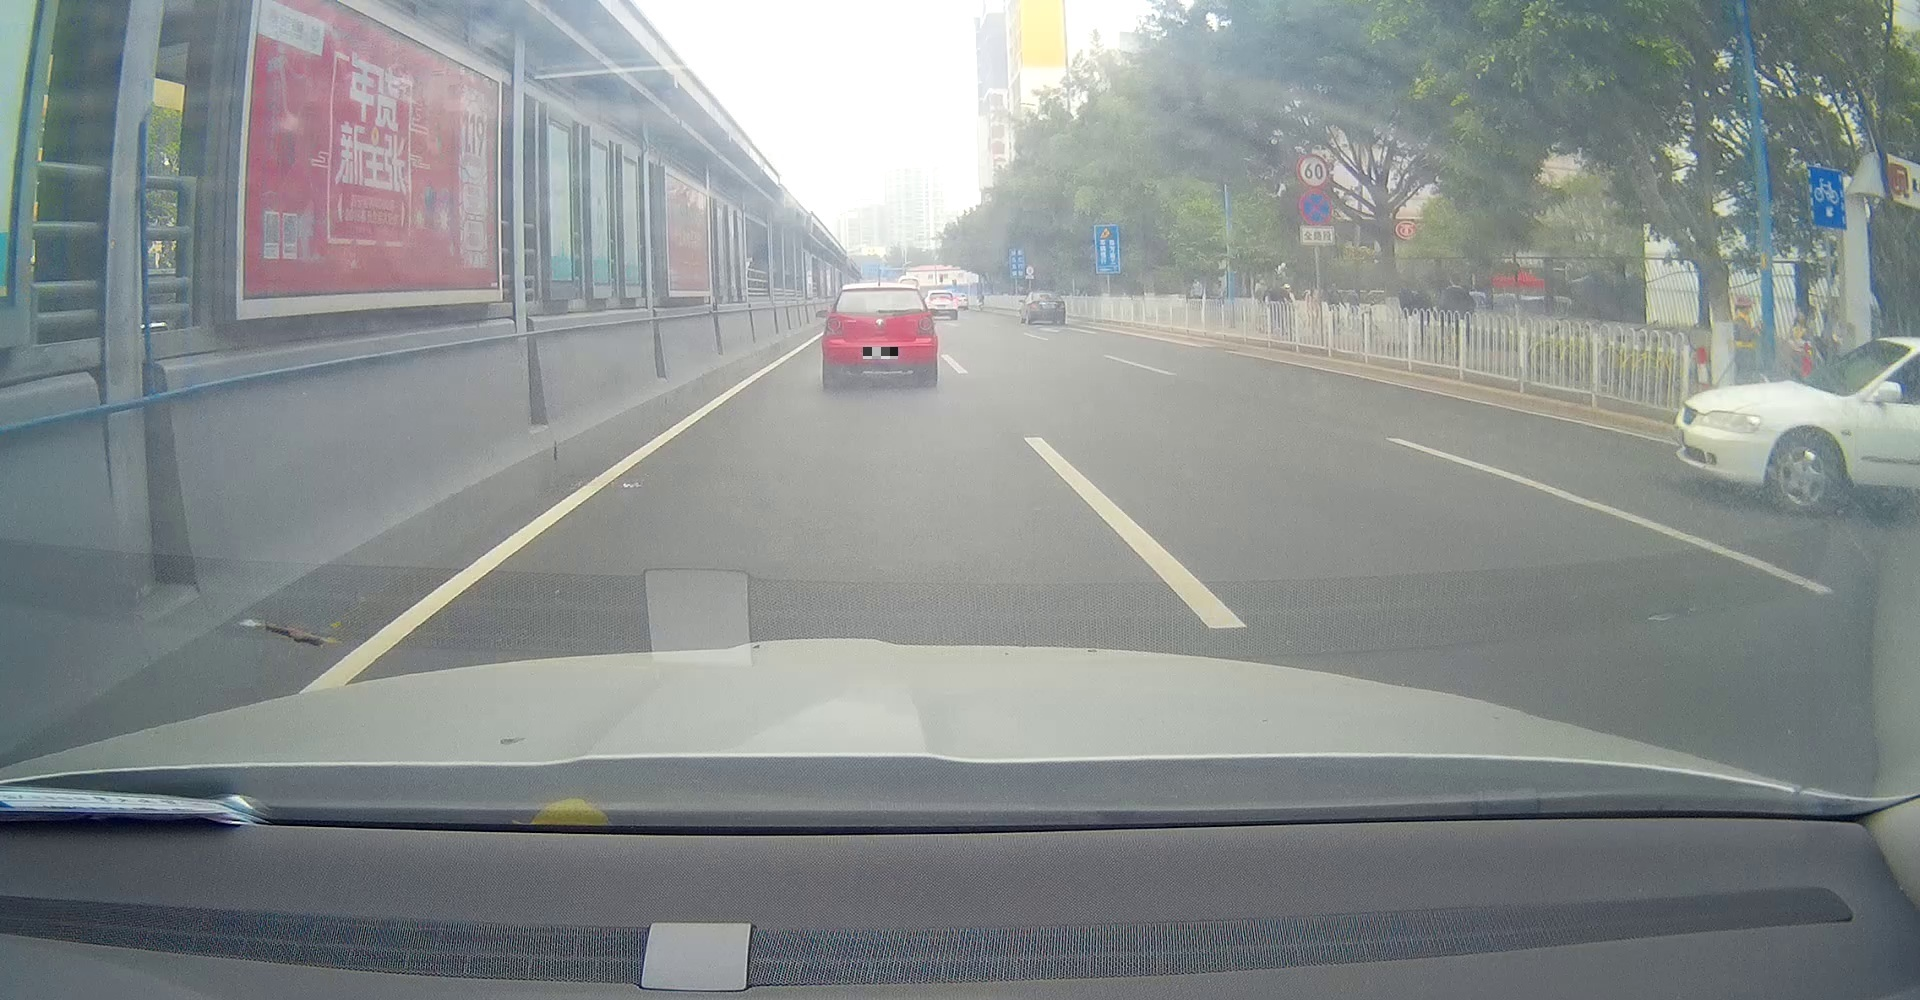L_light: (824, 319, 842, 338)
R_light: (916, 315, 935, 335)
T_light: (872, 289, 889, 293)
day-no: (822, 283, 938, 387)
plate_1: (863, 346, 898, 359)
